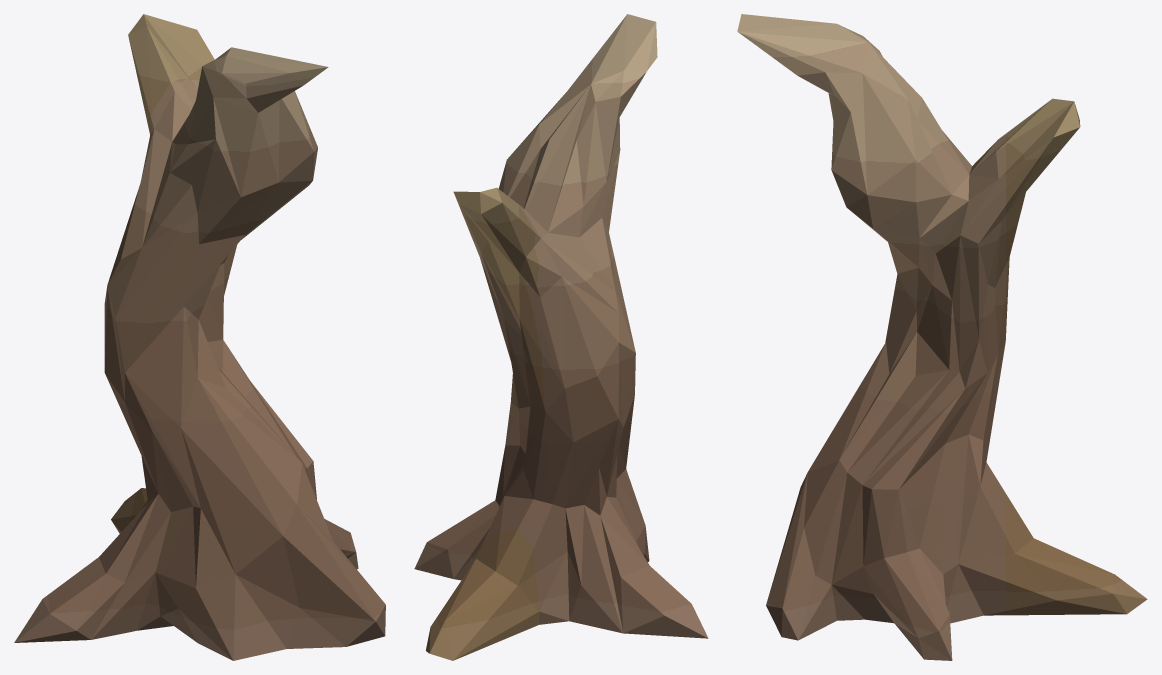
The model's file is YN_Tree3.fbx.
3 views of the same model, side by side, from view 1: azimuth 30°, elevation 25°; view 2: azimuth 150°, elevation 25°; view 3: azimuth 270°, elevation 25° (orthographic). The views are drawn at different scales.
Parts seen in each view (by area): view 1: YN_Tree3; view 2: YN_Tree3; view 3: YN_Tree3.
Boxes of the visible parts, <box> form: YN_Tree3: <box>14,14,385,660</box>; YN_Tree3: <box>414,14,708,660</box>; YN_Tree3: <box>737,14,1147,660</box>.
Size of the model in its own units: 10.13 by 17.2 by 11.22.
